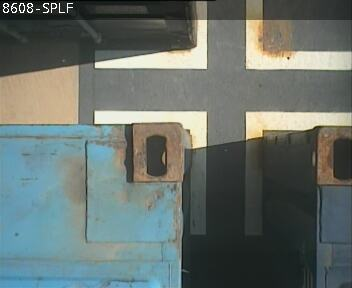groundmarker_1: (93, 110, 352, 235), (93, 1, 352, 70)
